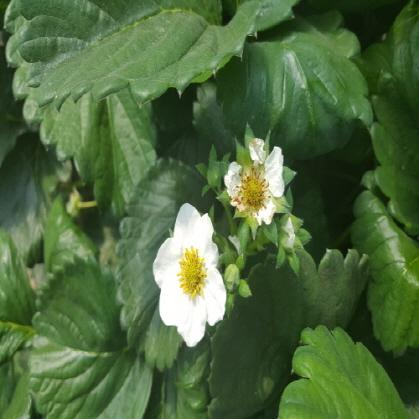Blossom Blight: (229, 165, 274, 217)
